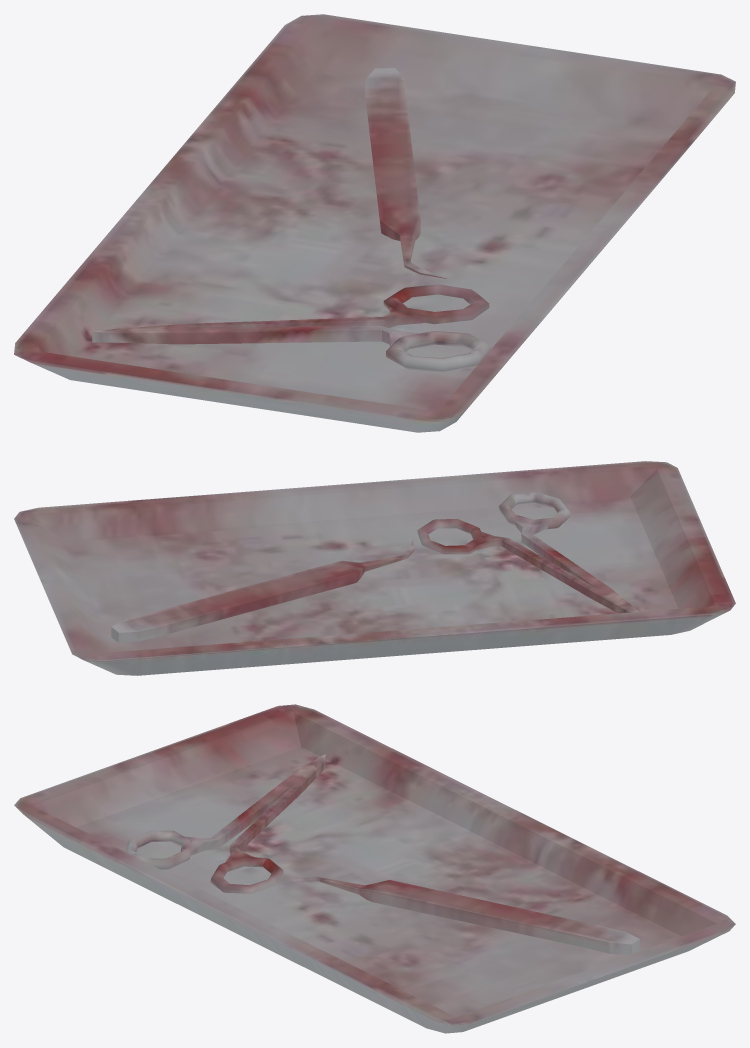
The model's file is instrument_tray.glb.
3 renders of one model, top to bottom at view 1: azimuth 30°, elevation 25°; view 2: azimuth 150°, elevation 25°; view 3: azimuth 270°, elevation 25°, orthographic. The views are drawn at different scales.
Parts seen in each view (by area): view 1: instrument_tray_0, instrument_tray_1, instrument_tray_2; view 2: instrument_tray_0, instrument_tray_2, instrument_tray_1; view 3: instrument_tray_0, instrument_tray_2, instrument_tray_1.
Part boxes in pixels (x1,y1,x2,y2): instrument_tray_0: (14,14,735,432); instrument_tray_1: (92,284,491,371); instrument_tray_2: (365,68,446,278); instrument_tray_0: (14,461,735,675); instrument_tray_2: (111,539,414,642); instrument_tray_1: (417,492,638,613); instrument_tray_0: (14,704,735,1033); instrument_tray_2: (278,876,639,955); instrument_tray_1: (126,754,325,893).
Size of the model in its own units: 0.451 by 0.0177 by 0.4294.
Materials: 1 (1 with a texture image).
